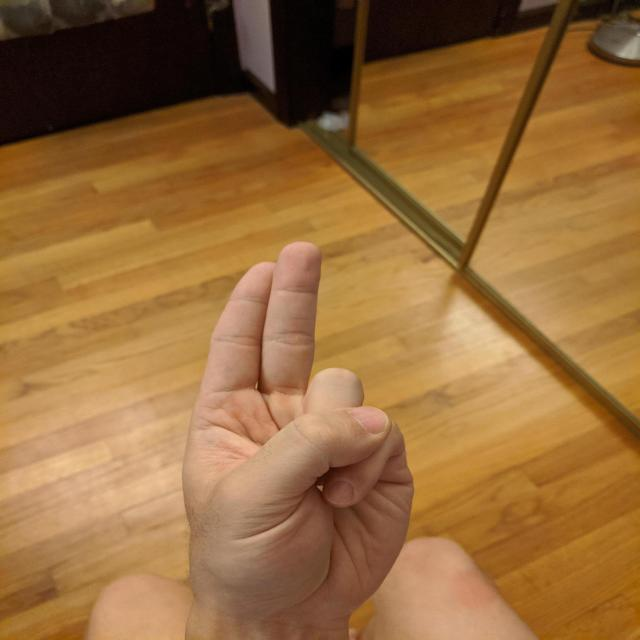U: (176, 235, 422, 620)
